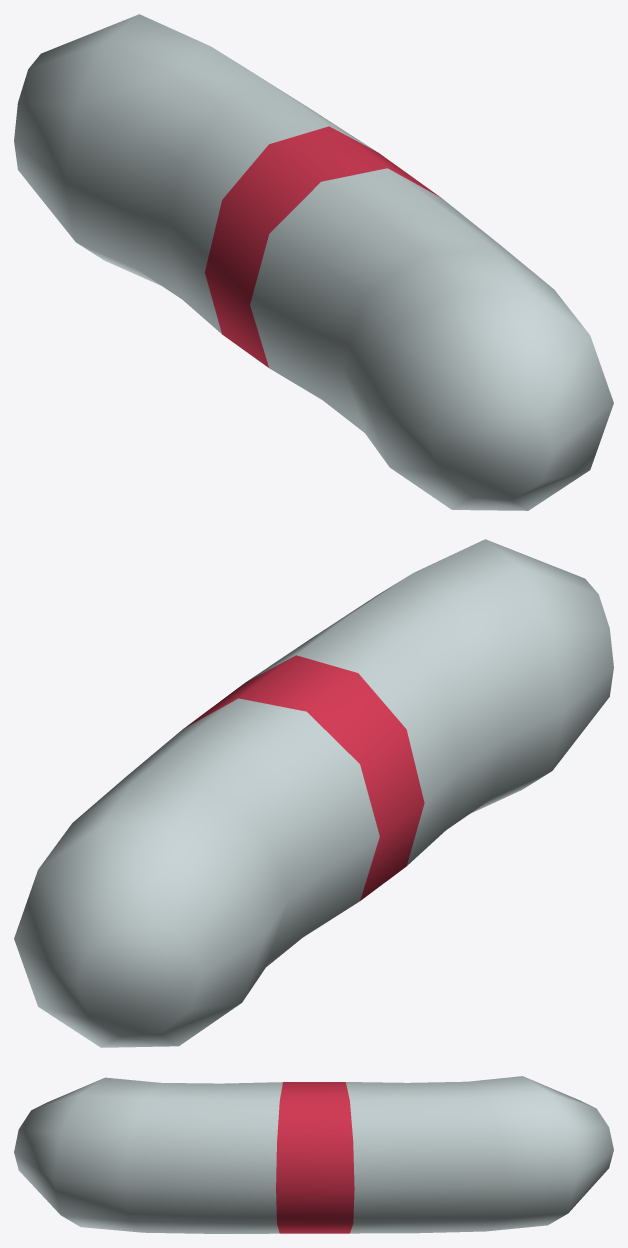
The model's file is FylgjaRiggedCollision.fbx.
The picture shows the model from 3 angles, top to bottom: view 1: azimuth 30°, elevation 25°; view 2: azimuth 150°, elevation 25°; view 3: azimuth 270°, elevation 25°; orthographic projection. The views are drawn at different scales.
Parts seen in each view (by area): view 1: FylgjaCollider; view 2: FylgjaCollider; view 3: FylgjaCollider.
Part boxes in pixels (x1,y1,x2,y2): FylgjaCollider: (14, 14, 613, 510); FylgjaCollider: (14, 539, 613, 1047); FylgjaCollider: (14, 1076, 613, 1233).
Bounding box in the file's own units: 80.52 × 76.08 × 312.
